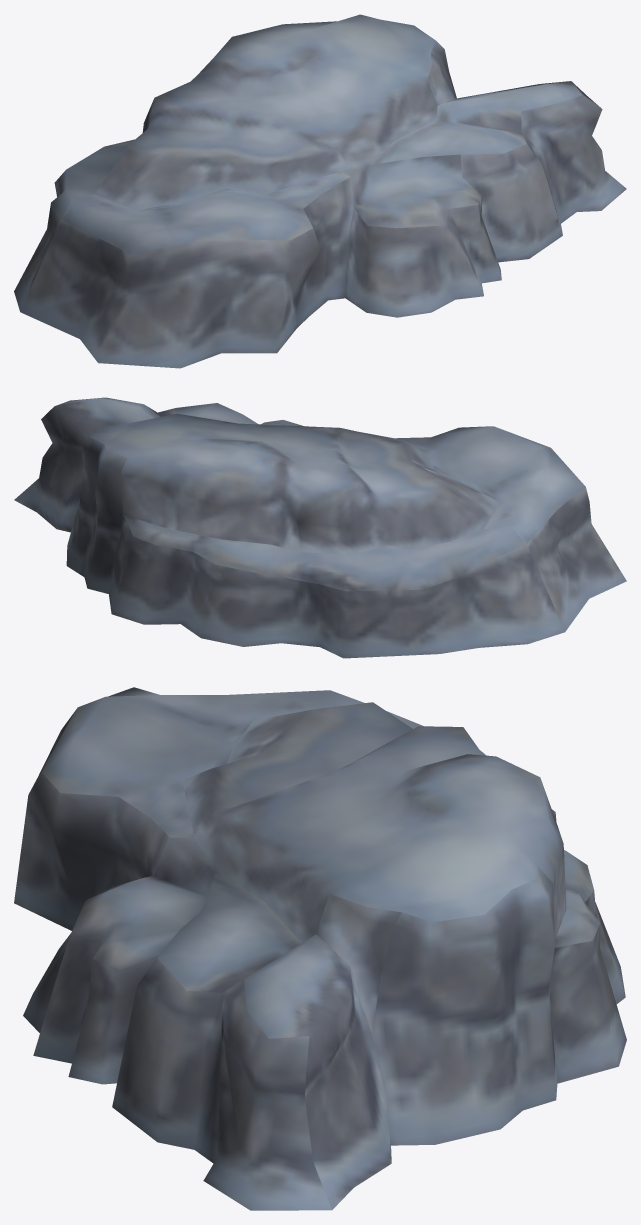
The model's file is rzjd_shitou_01.FBX.
The picture shows the model from 3 angles, top to bottom: view 1: azimuth 30°, elevation 25°; view 2: azimuth 150°, elevation 25°; view 3: azimuth 270°, elevation 25°; orthographic projection. The views are drawn at different scales.
Visible parts, largest first — view 1: rzjd_shitou_01; view 2: rzjd_shitou_01; view 3: rzjd_shitou_01.
Boxes of the visible parts, <box> form: rzjd_shitou_01: <box>14,14,626,368</box>; rzjd_shitou_01: <box>14,397,626,658</box>; rzjd_shitou_01: <box>14,687,626,1210</box>.
Bounding box in the file's own units: 1346 × 347 × 840.
